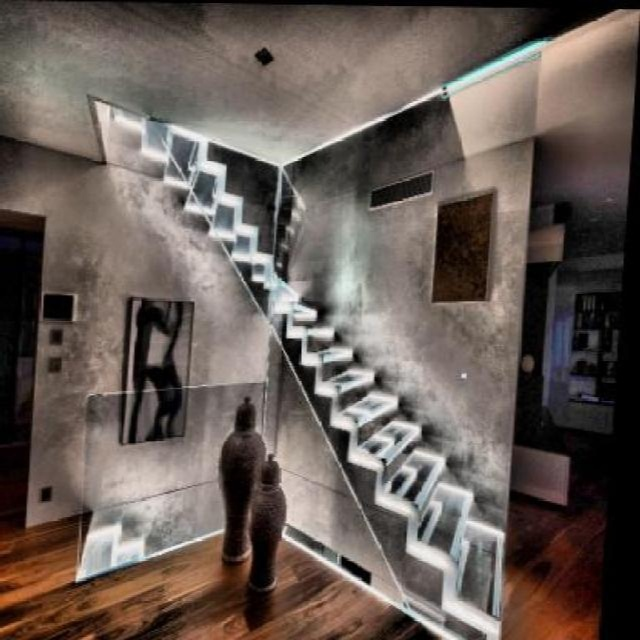stair: (295, 357, 525, 638)
